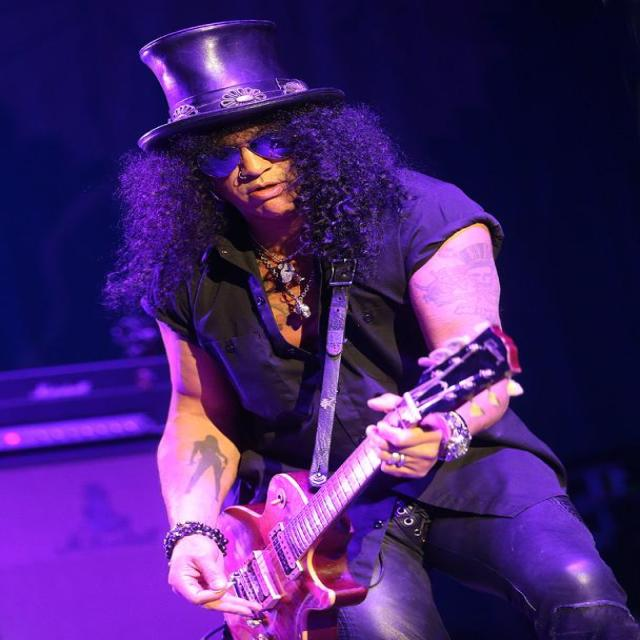guitar: (219, 440, 381, 639)
